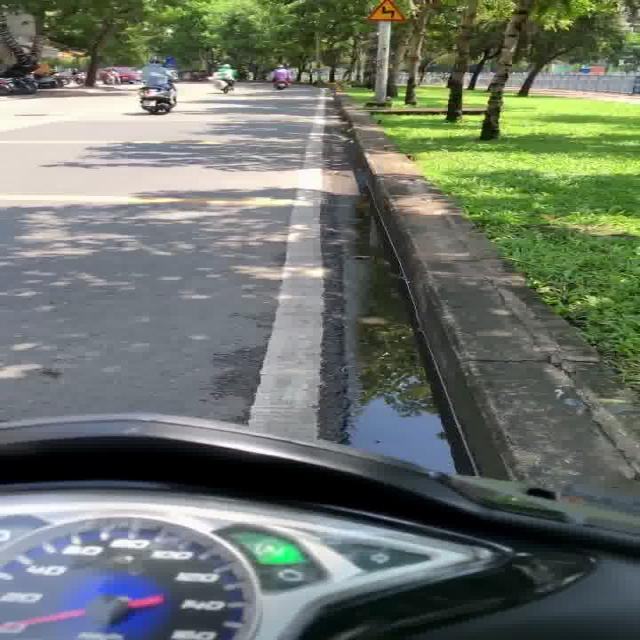Bien bao nhieu cho ngoat nguy hiem lien tiep: (354, 0, 417, 25)
